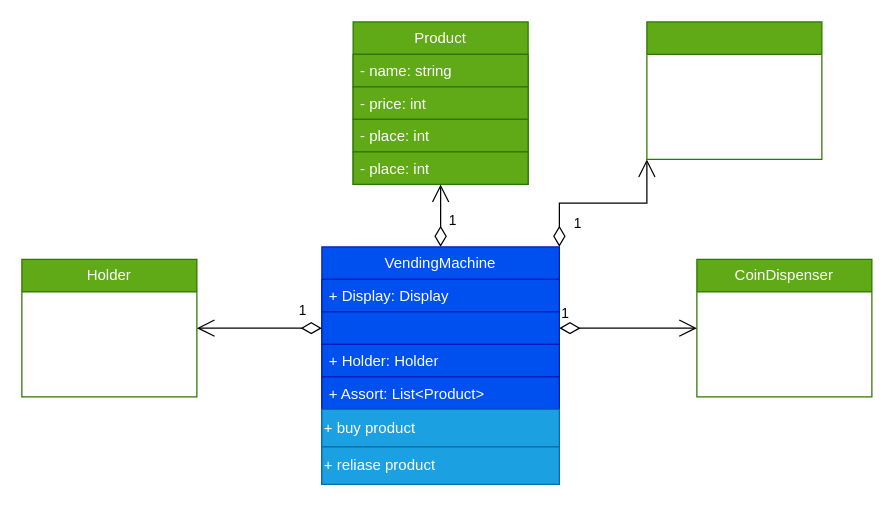
The diagram is 894 pixels wide and 506 high, and some of its shapes have lost their labels. Each missing label, with the centre of its shape:
"+ CoinDispenser: CoinDispenser" belongs at (x=440, y=327).
"Display" belongs at (x=734, y=90).
